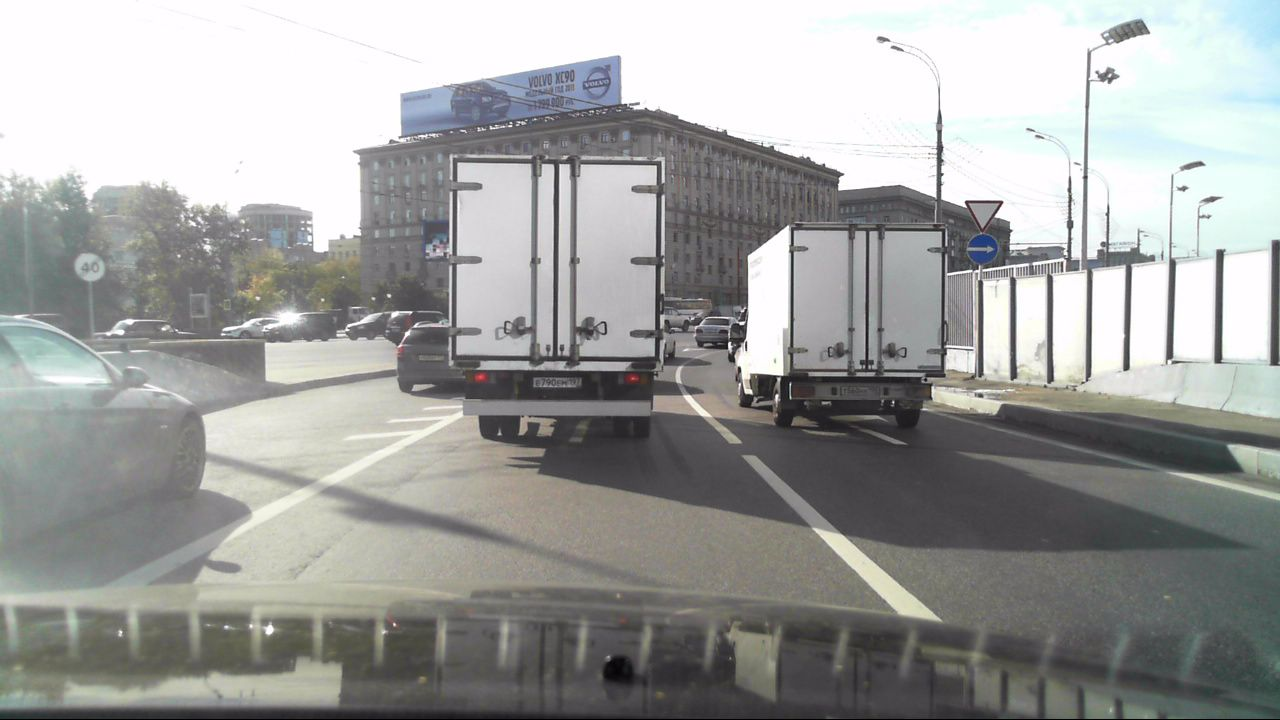Turn Right: (966, 233, 1000, 265)
